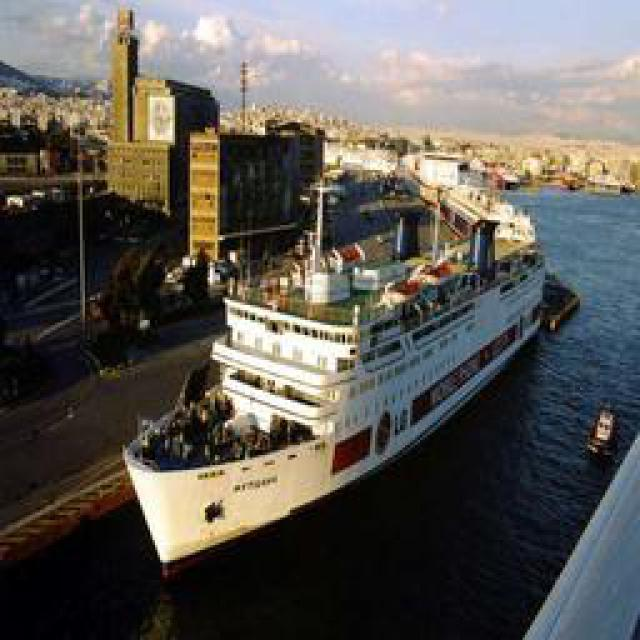Ship: (113, 134, 571, 574)
